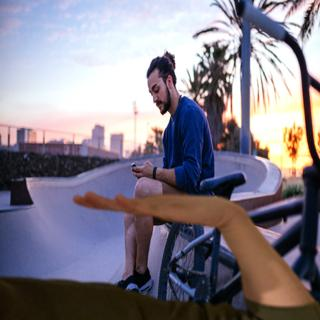WAIT: (70, 185, 241, 230)
